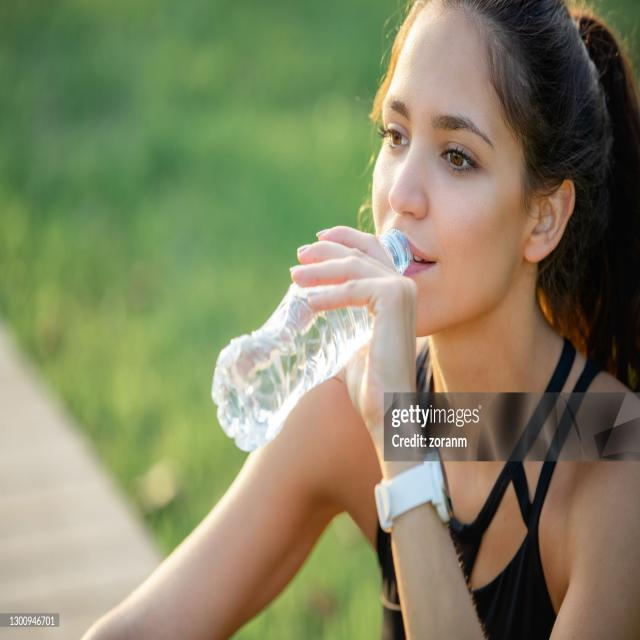bottle: (212, 227, 410, 453)
